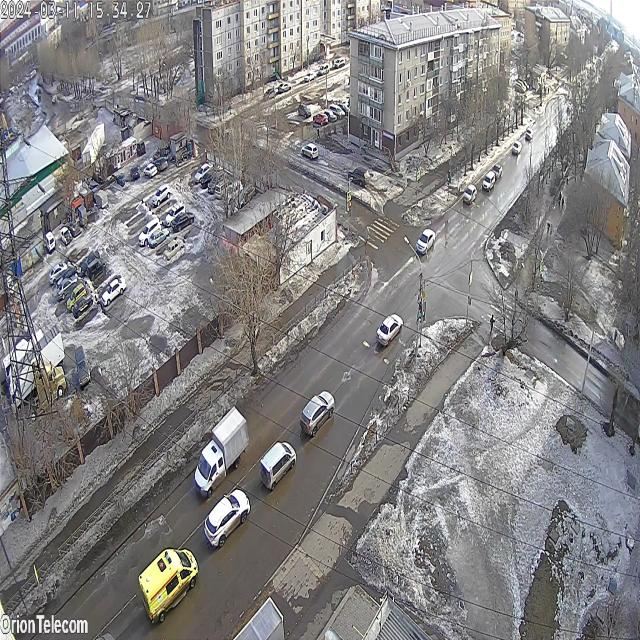car: (193, 404, 250, 504), (138, 541, 200, 631), (203, 488, 251, 556), (27, 351, 67, 424), (259, 434, 298, 496), (299, 384, 336, 446), (376, 312, 404, 350), (102, 270, 127, 310), (136, 213, 162, 250), (72, 342, 91, 391), (169, 205, 195, 238), (49, 247, 68, 290), (73, 287, 97, 320), (164, 194, 186, 230), (66, 280, 88, 315), (57, 270, 79, 305), (199, 160, 221, 193), (164, 233, 187, 264), (149, 220, 170, 253), (214, 171, 234, 204), (222, 178, 244, 208), (234, 182, 255, 212), (194, 159, 217, 186), (415, 228, 436, 257), (347, 165, 371, 190), (87, 254, 106, 284), (152, 180, 171, 210), (300, 140, 320, 162), (148, 154, 170, 174), (58, 218, 71, 249), (462, 184, 478, 209), (482, 168, 496, 196), (143, 160, 159, 182), (44, 230, 56, 255), (511, 134, 522, 160), (490, 160, 502, 183), (523, 121, 534, 146), (131, 162, 140, 182)
